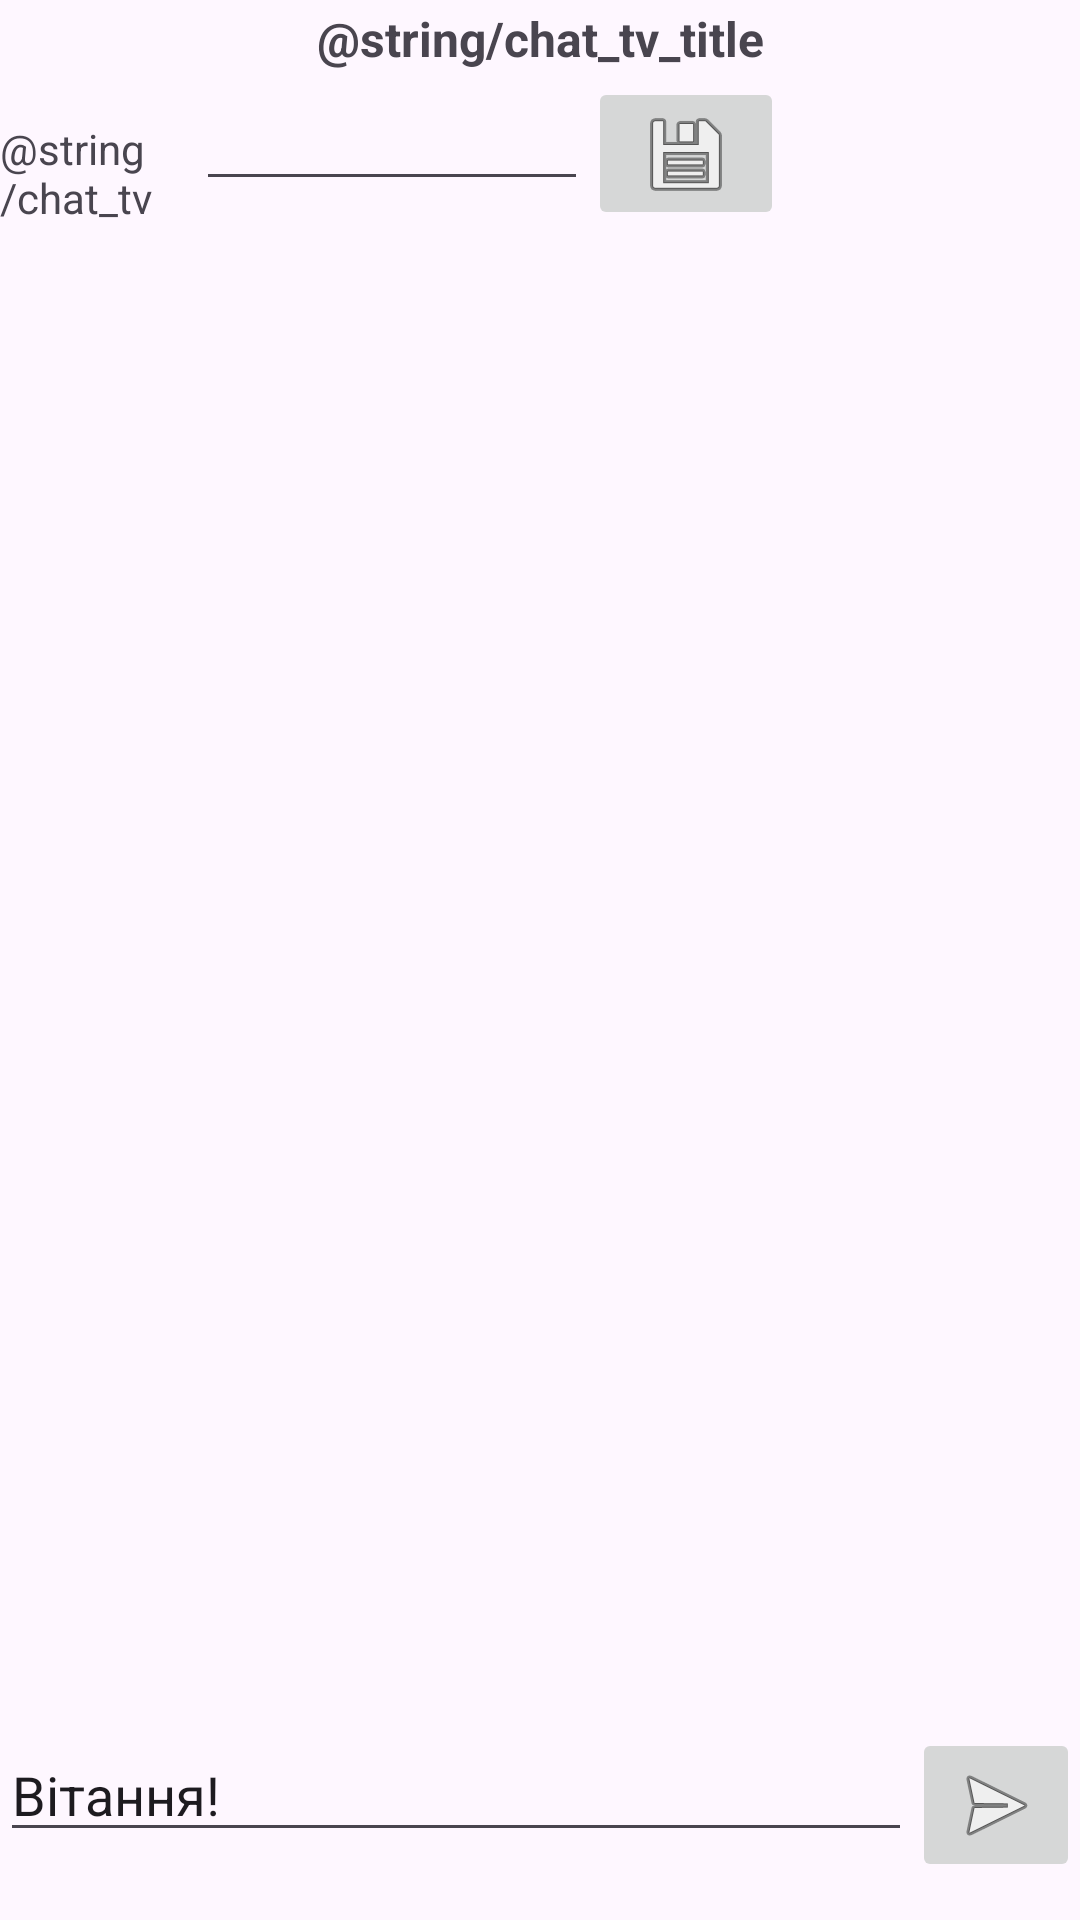

Locate icon controls on the screen. Image size 1080px x 1920px, boxes as {"x1": x1, "y1": y1, "x2": x2, "y2": y2}.
save: {"x1": 600, "y1": 95, "x2": 772, "y2": 212}
send: {"x1": 924, "y1": 1746, "x2": 1068, "y2": 1864}
